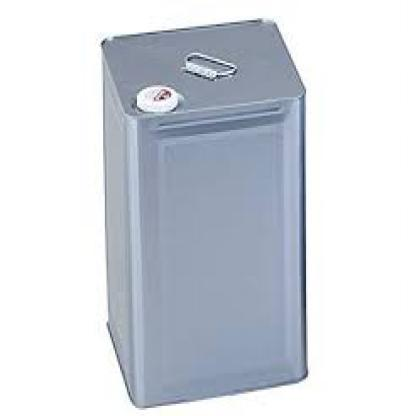Compsot: (100, 16, 308, 406)
